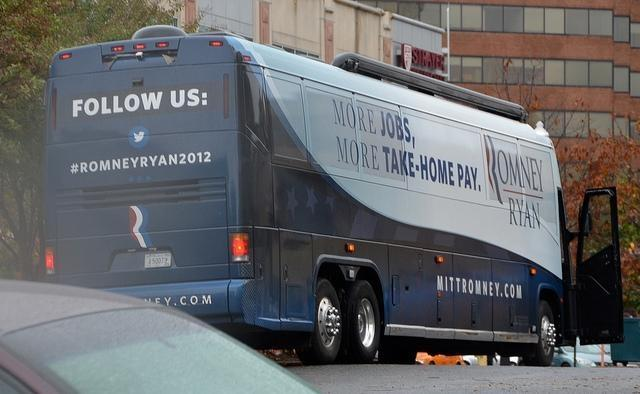bus: (41, 26, 625, 368)
car: (1, 280, 313, 389), (552, 346, 595, 368), (418, 354, 466, 367), (492, 355, 520, 367)
